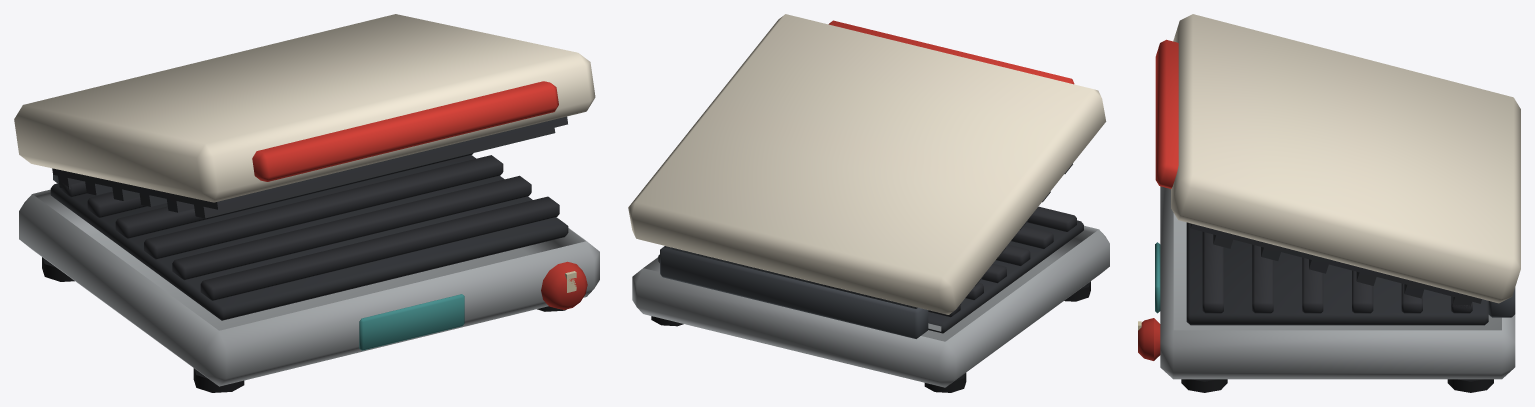
File: SM_PaniniPress_01.glb
The picture shows the model from 3 angles, left to right: view 1: azimuth 30°, elevation 25°; view 2: azimuth 150°, elevation 25°; view 3: azimuth 270°, elevation 25°; orthographic projection. The views are drawn at different scales.
Parts seen in each view (by area): view 1: SM_PaniniPress_01; view 2: SM_PaniniPress_01; view 3: SM_PaniniPress_01.
Part boxes in pixels (x1=…): SM_PaniniPress_01: x1=14, y1=14, x2=599, y2=392; SM_PaniniPress_01: x1=628, y1=14, x2=1109, y2=392; SM_PaniniPress_01: x1=1138, y1=14, x2=1520, y2=392.
Bounding box in the file's own units: 0.45 × 0.2712 × 0.4315.
Materials: 1 (1 with a texture image).
